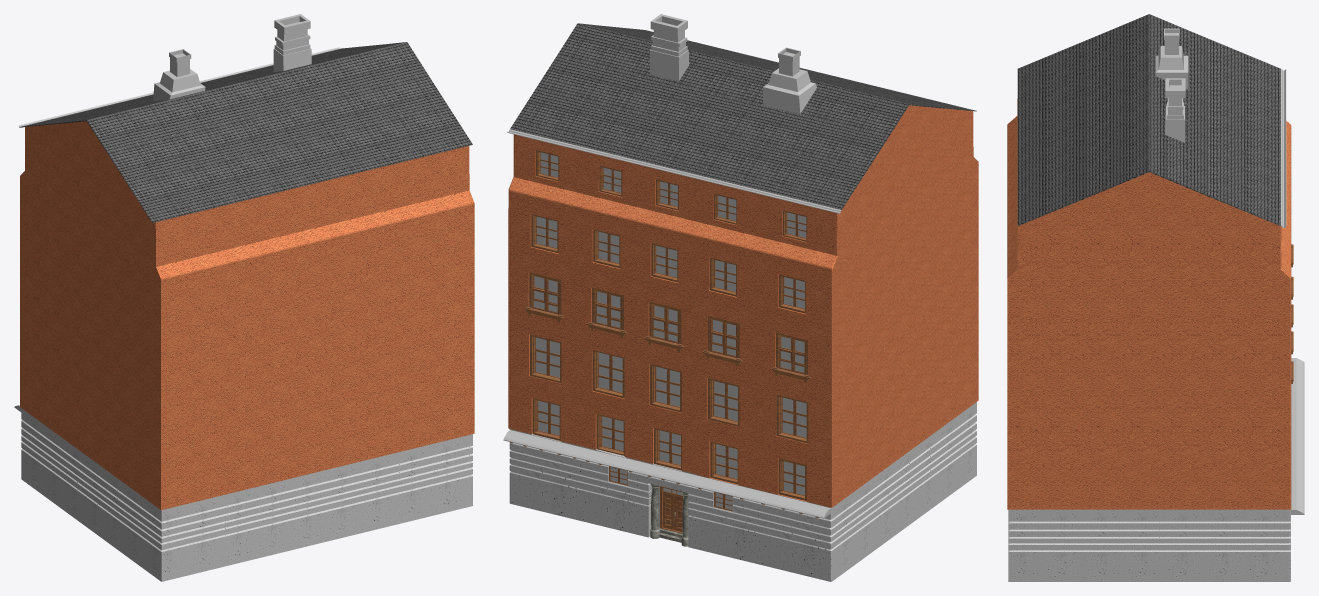
File: Apartment1.fbx
The picture shows the model from 3 angles, left to right: view 1: azimuth 30°, elevation 25°; view 2: azimuth 150°, elevation 25°; view 3: azimuth 270°, elevation 25°; orthographic projection. The views are drawn at different scales.
Visible parts, largest first — view 1: Apartment1, 1st_C.018, Apartment1.005, Apartment1.001, Apartment1.004, Apartment1.003, Apartment1.002, 5th_L_C.012; view 2: Apartment1, 1st_C.018, Apartment1.005, Apartment1.001, 5th_L_C.012, 1st_C.032, Apartment1.004, Apartment1.002, Apartment1.003, Plane.029, Plane.033, Plane.030 (+24 smaller); view 3: Apartment1, 1st_C.018, Apartment1.001, 5th_L_C.012, 1st_C.032.
Boxes of the visible parts, <box> form: Apartment1: <box>20,121,474,510</box>; 1st_C.018: <box>18,42,472,222</box>; Apartment1.005: <box>21,408,230,581</box>; Apartment1.001: <box>402,434,472,522</box>; Apartment1.004: <box>230,478,291,564</box>; Apartment1.003: <box>290,464,348,550</box>; Apartment1.002: <box>347,451,403,536</box>; 5th_L_C.012: <box>153,14,311,101</box>; Apartment1: <box>508,105,978,507</box>; 1st_C.018: <box>507,23,976,213</box>; Apartment1.005: <box>759,402,976,581</box>; Apartment1.001: <box>509,429,581,520</box>; 5th_L_C.012: <box>650,14,816,113</box>; 1st_C.032: <box>503,430,830,518</box>; Apartment1.004: <box>697,475,759,564</box>; Apartment1.002: <box>580,446,638,534</box>; Apartment1.003: <box>638,460,697,549</box>; Plane.029: <box>702,316,742,366</box>; Plane.033: <box>524,272,564,322</box>; Plane.030: <box>644,301,684,351</box>; Apartment1: <box>1007,98,1291,509</box>; 1st_C.018: <box>1017,14,1286,227</box>; Apartment1.001: <box>1008,509,1290,581</box>; 5th_L_C.012: <box>1155,28,1188,142</box>; 1st_C.032: <box>1291,358,1304,514</box>.
Size of the model in its own units: 18.4 by 24.58 by 14.73.
